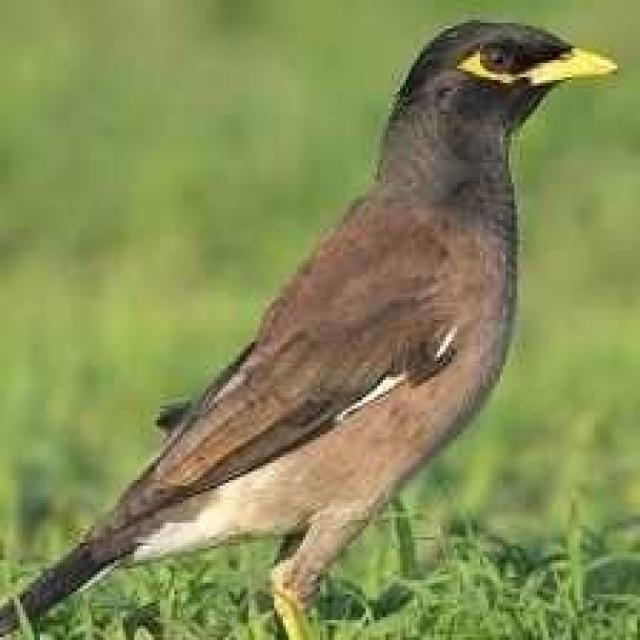bird: (16, 0, 624, 640)
